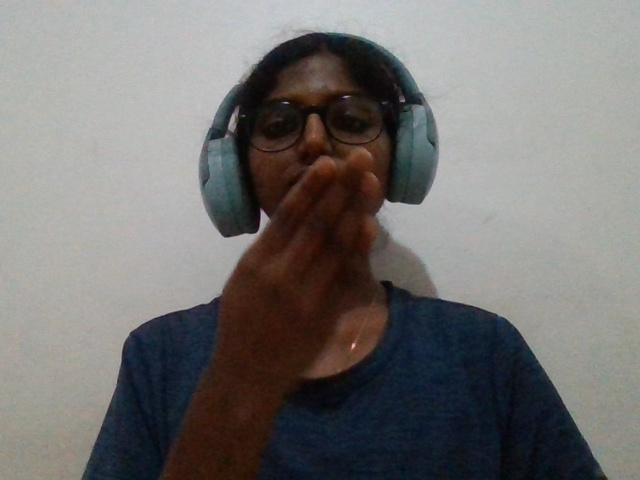Thanks: (194, 134, 401, 421)
